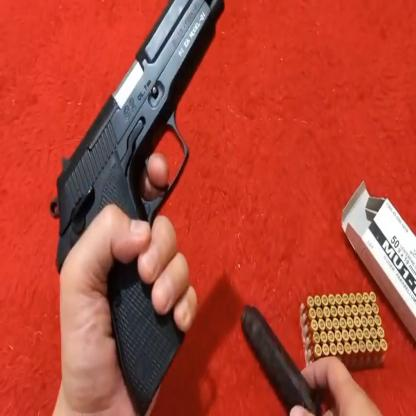handgun: (52, 0, 231, 416)
